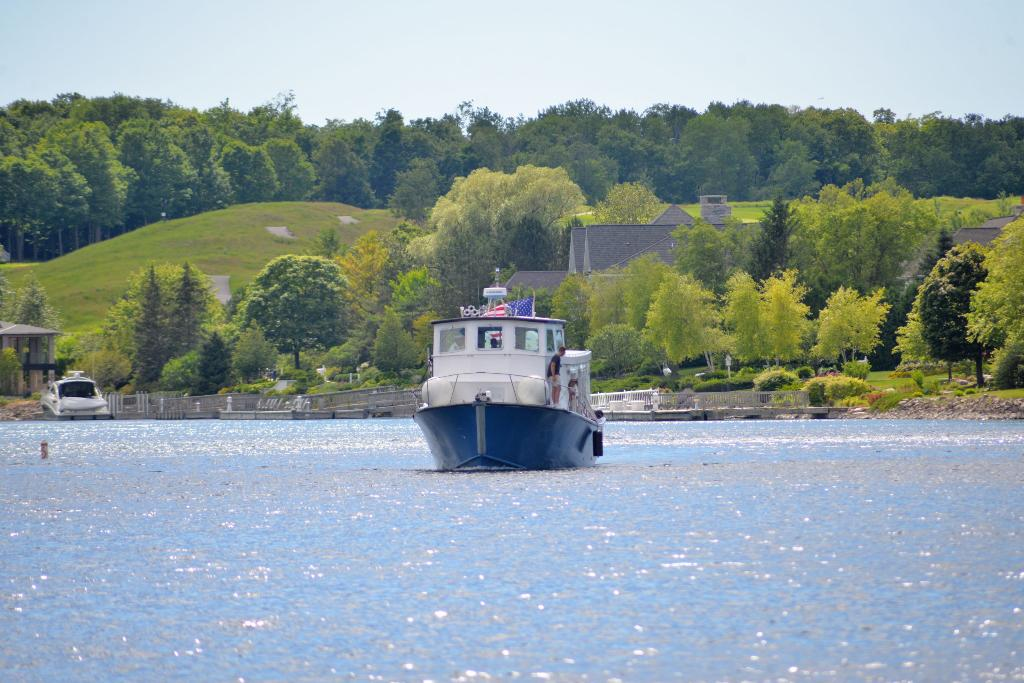PassengerShip: (394, 263, 616, 475), (40, 362, 118, 426)
